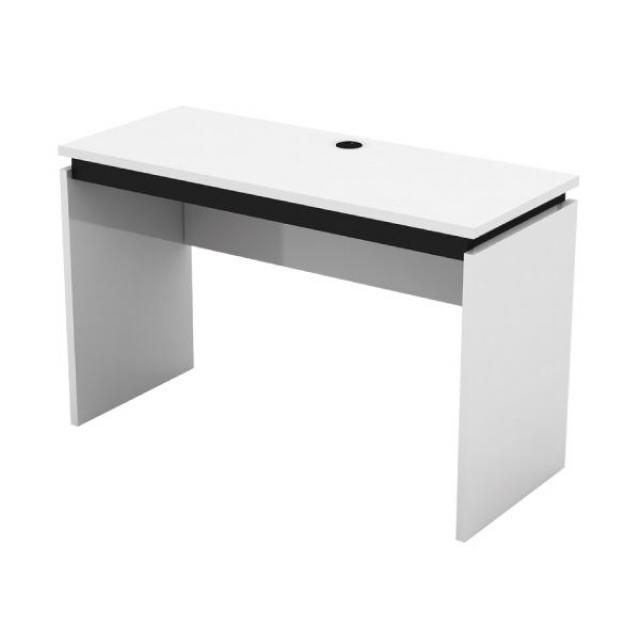table: (32, 87, 615, 557)
